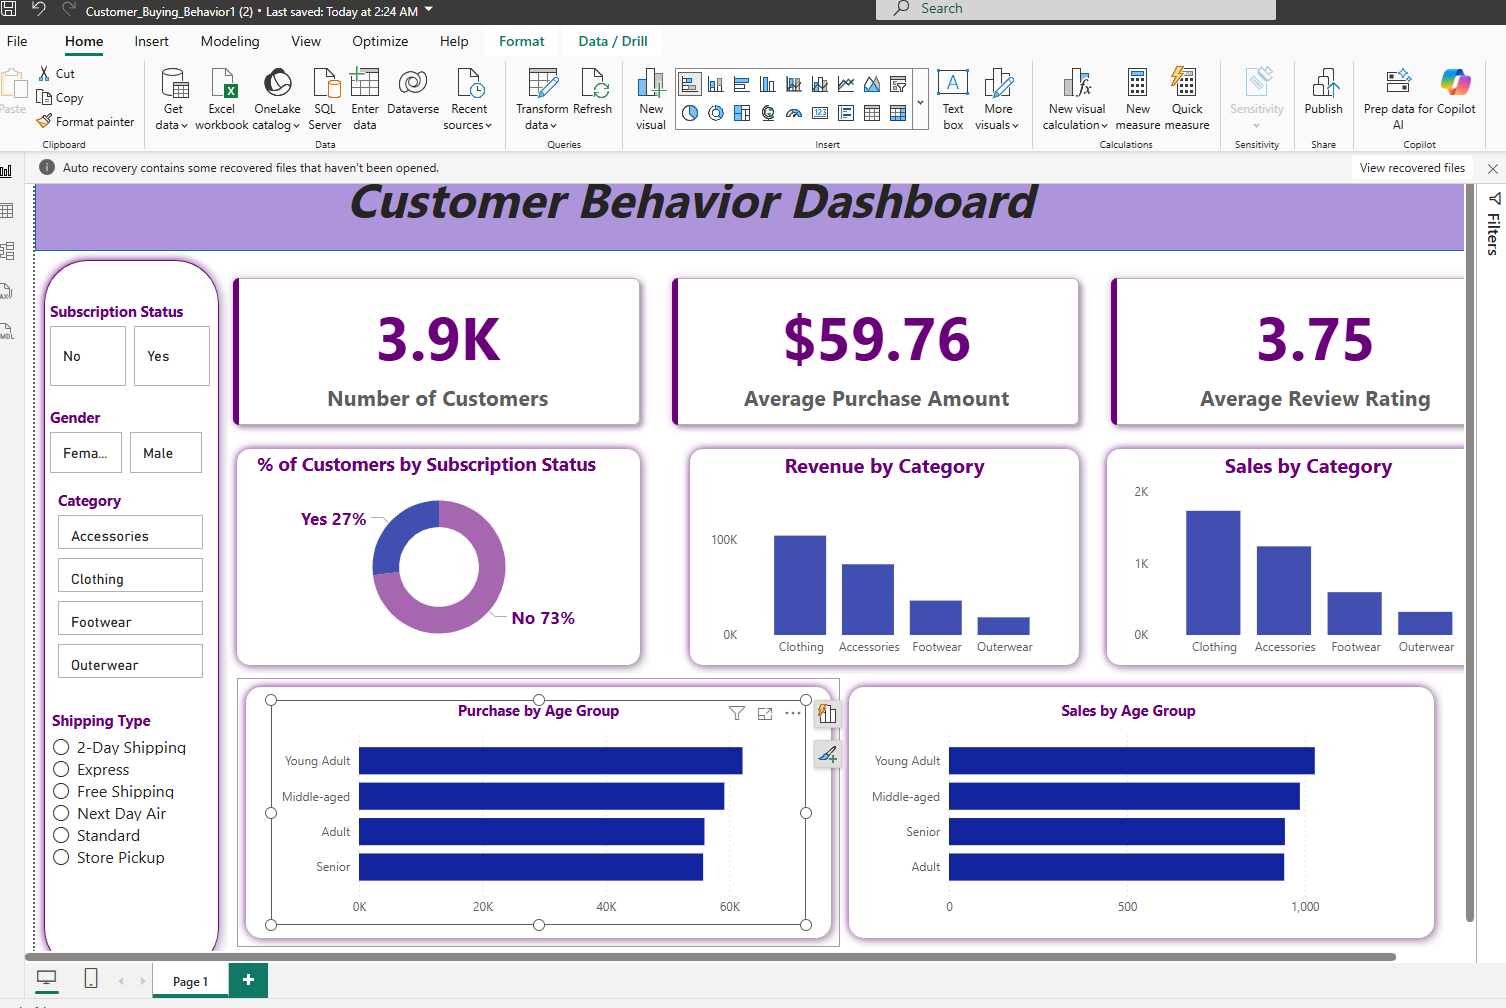

The dashboard page shown, as its layout file describes it:
{"tool":"powerbi","page":{"name":"Page 1","canvas":[1500,820],"ordinal":0},"visuals":[{"type":"cardVisual","fields":{"Data":["clean_data.Number of Customers","clean_data.Average Purchase Amount","clean_data.Average Review Rating"]},"box":[181.4,100,1318.6,181.4],"z":0},{"type":"shape","box":[0,0,1500,90],"z":1000},{"type":"textbox","box":[192.8,0,924.6,253.2],"z":2000},{"type":"shape","box":[192.9,278.6,421.4,234.3],"z":3000},{"type":"shape","box":[645.7,278.6,407.1,234.3],"z":4000},{"type":"shape","box":[1062.9,278.6,422.9,234.3],"z":5000},{"type":"donutChart","title":"% of Customers by Subscription Status","fields":{"Category":["clean_data.subscription_status"],"Y":["CountNonNull(clean_data.customer_id)"]},"box":[217.1,290,374.3,207.1],"z":6000},{"type":"columnChart","title":"Sales by Category","fields":{"Category":["clean_data.category"],"Y":["CountNonNull(clean_data.customer_id)"]},"box":[1094.3,290,358.6,214.3],"z":7000},{"type":"columnChart","title":"Revenue by Category","fields":{"Category":["clean_data.category"],"Y":["Sum(clean_data.purchase_amount)"]},"box":[670,290,358.6,214.3],"z":8000},{"type":"textbox","box":[312.9,638.6,900,107.1],"z":9000},{"type":"shape","box":[0,90,192.9,730],"z":10000},{"type":"advancedSlicerVisual","title":"Subscription Status","fields":{"Values":["clean_data.subscription_status"]},"box":[10,140,171,90],"z":11000},{"type":"advancedSlicerVisual","title":"Gender","fields":{"Values":["clean_data.gender"]},"box":[10,246,163,71],"z":12000},{"type":"advancedSlicerVisual","title":"Category","fields":{"Values":["clean_data.category"]},"box":[18,329,155,196],"z":13000},{"type":"listSlicer","title":"Shipping Type","fields":{"Values":["clean_data.shipping_type"]},"box":[12,549,167,205],"z":14000},{"type":"barChart","title":"Purchase by Age Group","fields":{"Y":["Sum(clean_data.purchase_amount)"],"Category":["clean_data.age_group"]},"box":[236,539,535,225],"z":15000},{"type":"shape","box":[193,517,603,269],"z":16000},{"type":"shape","box":[805,517,603,269],"z":17000},{"type":"barChart","title":"Sales by Age Group","fields":{"Category":["clean_data.age_group"],"Y":["CountNonNull(clean_data.customer_id)"]},"box":[826,539,535,225],"z":18000}]}

Visuals, with their boxes in screenshot pixels (x1, y1, x2, y2):
cardVisual - clean_data.Number of Customers x clean_data.Average Purchase Amount: {"x1": 216, "y1": 29, "x2": 1476, "y2": 202}
shape: {"x1": 43, "y1": 0, "x2": 1476, "y2": 19}
textbox: {"x1": 227, "y1": 0, "x2": 1110, "y2": 175}
shape: {"x1": 227, "y1": 199, "x2": 630, "y2": 423}
shape: {"x1": 660, "y1": 199, "x2": 1049, "y2": 423}
shape: {"x1": 1058, "y1": 199, "x2": 1462, "y2": 423}
"% of Customers by Subscription Status" donutChart: {"x1": 250, "y1": 210, "x2": 608, "y2": 408}
"Sales by Category" columnChart: {"x1": 1088, "y1": 210, "x2": 1431, "y2": 415}
"Revenue by Category" columnChart: {"x1": 683, "y1": 210, "x2": 1025, "y2": 415}
textbox: {"x1": 342, "y1": 543, "x2": 1201, "y2": 645}
shape: {"x1": 43, "y1": 19, "x2": 227, "y2": 716}
"Subscription Status" advancedSlicerVisual: {"x1": 53, "y1": 67, "x2": 216, "y2": 153}
"Gender" advancedSlicerVisual: {"x1": 53, "y1": 168, "x2": 208, "y2": 236}
"Category" advancedSlicerVisual: {"x1": 60, "y1": 248, "x2": 208, "y2": 435}
"Shipping Type" listSlicer: {"x1": 55, "y1": 458, "x2": 214, "y2": 653}
"Purchase by Age Group" barChart: {"x1": 269, "y1": 448, "x2": 779, "y2": 663}
shape: {"x1": 227, "y1": 427, "x2": 803, "y2": 684}
shape: {"x1": 812, "y1": 427, "x2": 1388, "y2": 684}
"Sales by Age Group" barChart: {"x1": 832, "y1": 448, "x2": 1343, "y2": 663}
